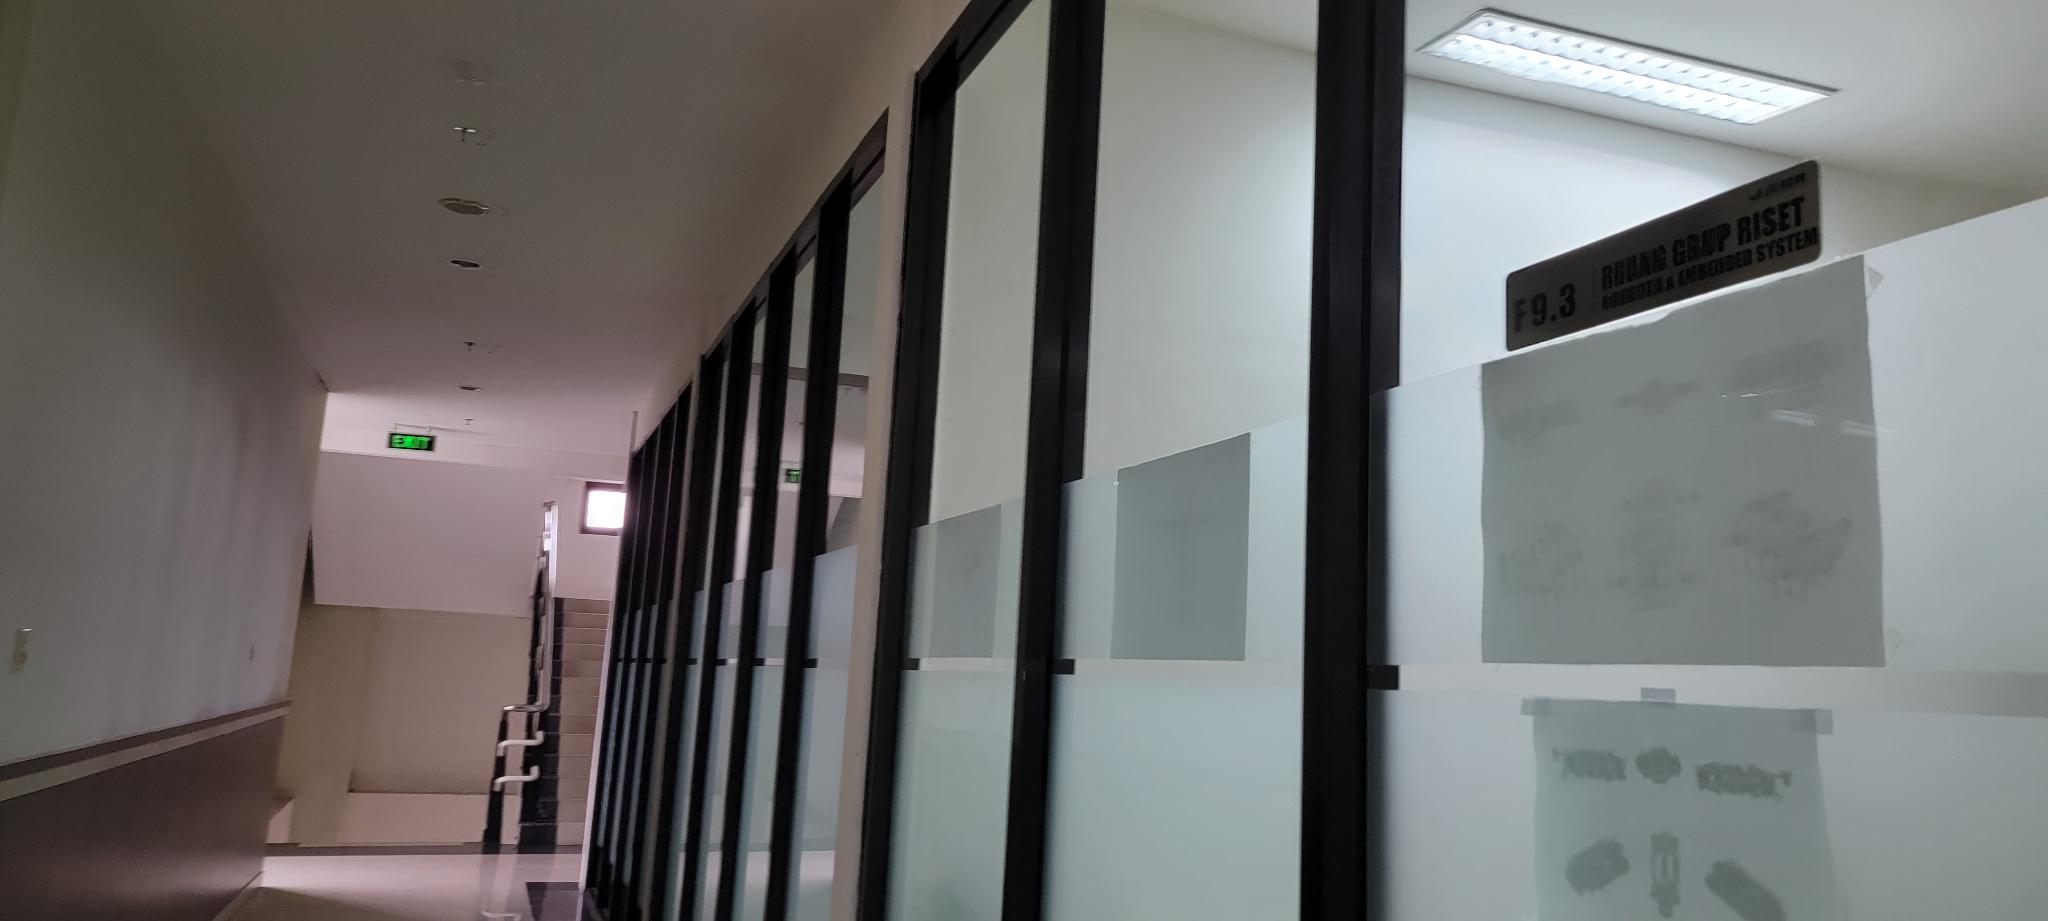plate: (1503, 158, 1822, 355)
